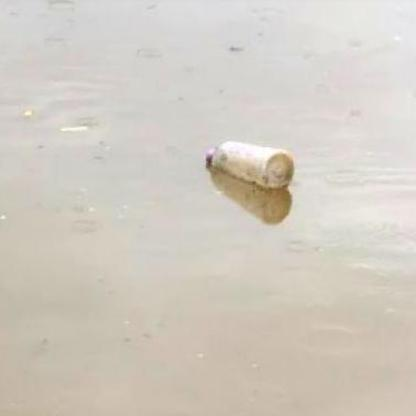plastic bottle: (207, 141, 294, 190)
